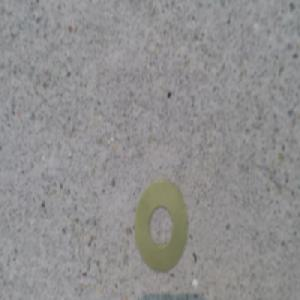Washer: (135, 176, 189, 270)
